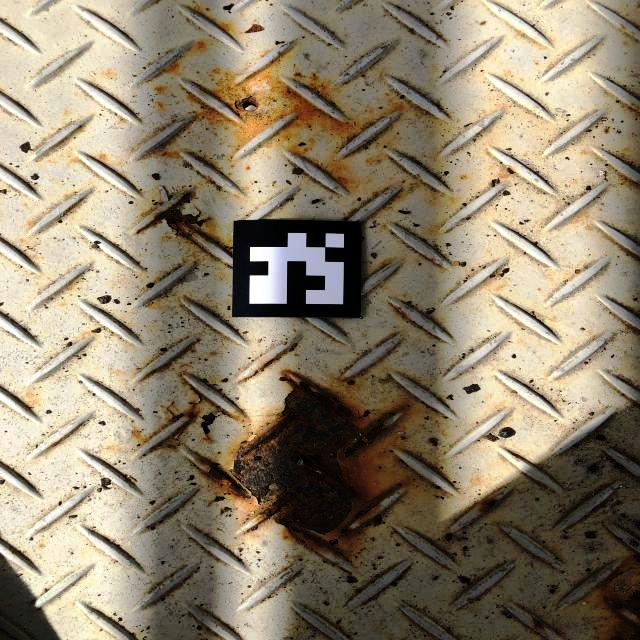Corrosion: (198, 367, 399, 559), (193, 68, 352, 155), (148, 386, 241, 452), (130, 191, 215, 253), (600, 556, 640, 640), (238, 355, 280, 383), (482, 500, 501, 513), (531, 617, 545, 630)
